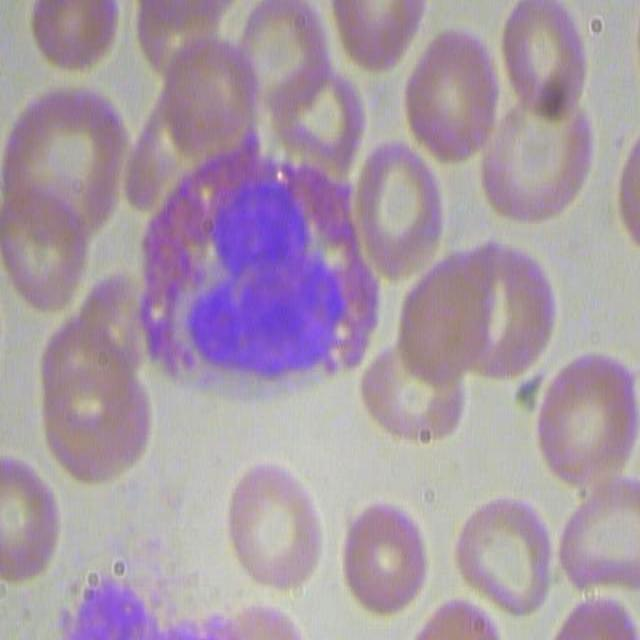RBC: (403, 230, 553, 386), (141, 1, 264, 167), (34, 315, 145, 492), (2, 76, 128, 228), (477, 83, 597, 228), (399, 5, 497, 182), (530, 350, 638, 498), (225, 454, 329, 593), (348, 135, 444, 283), (451, 495, 554, 625), (333, 492, 429, 623), (262, 62, 367, 180), (2, 188, 94, 316), (358, 338, 467, 446), (300, 0, 427, 89), (498, 0, 593, 115), (556, 480, 640, 598), (235, 1, 322, 108), (0, 458, 60, 586), (31, 0, 123, 72), (405, 602, 516, 640), (547, 596, 637, 640)
WBC: (148, 134, 379, 400)
